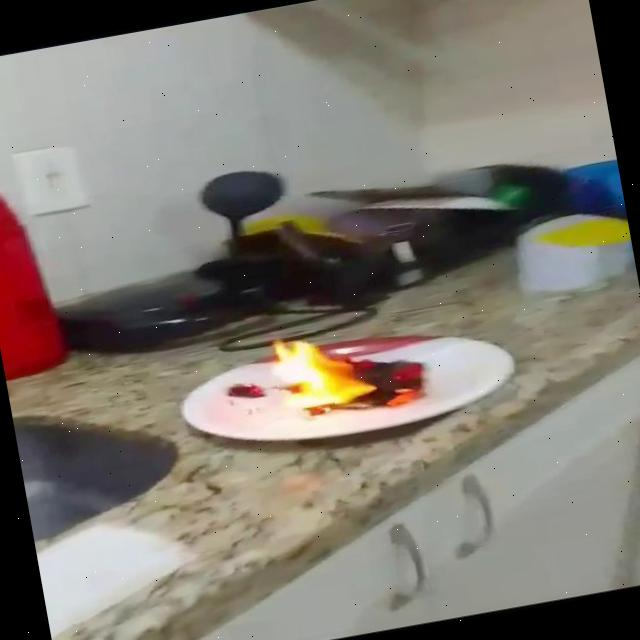fire: (262, 312, 434, 430)
